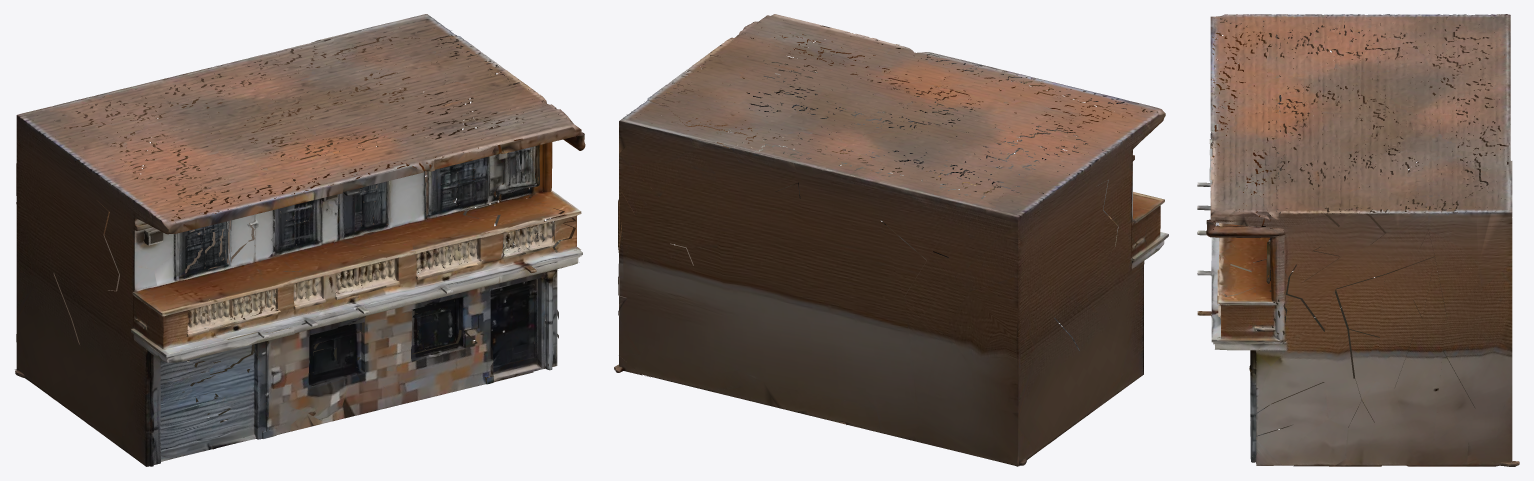
File: algerian-villa.glb
The picture shows the model from 3 angles, left to right: view 1: azimuth 30°, elevation 25°; view 2: azimuth 150°, elevation 25°; view 3: azimuth 270°, elevation 25°; orthographic projection. The views are drawn at different scales.
Parts seen in each view (by area): view 1: Object_3, Object_4, Object_2; view 2: Object_3, Object_4, Object_2; view 3: Object_3, Object_4, Object_2.
Part boxes in pixels (x1,y1,x2,y2): Object_3: (15,35,585,466); Object_4: (61,14,582,421); Object_2: (15,27,581,445); Object_3: (618,14,1168,466); Object_4: (614,26,1154,377); Object_2: (626,23,1157,466); Object_3: (1206,14,1510,466); Object_4: (1197,17,1519,466); Object_2: (1198,14,1507,463).
Size of the model in its own units: 58409 by 34285 by 39372.
1 material, 1 textured.
